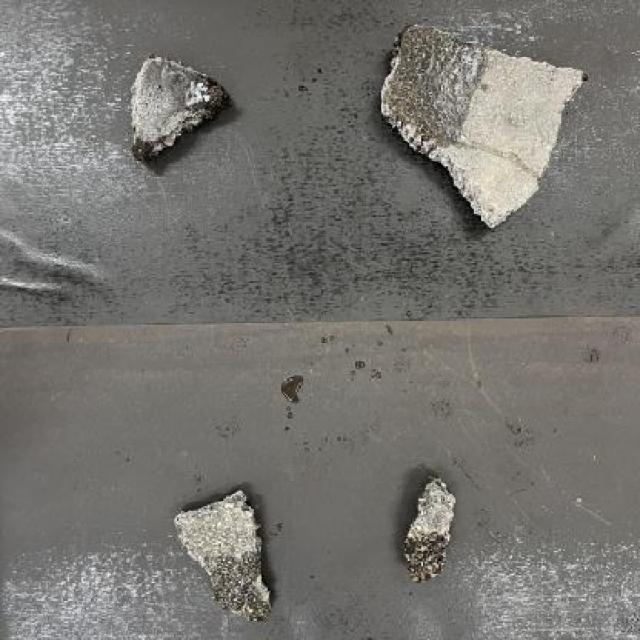Road Debris: (382, 28, 478, 152), (166, 60, 226, 136), (206, 561, 272, 617), (398, 536, 448, 584)
